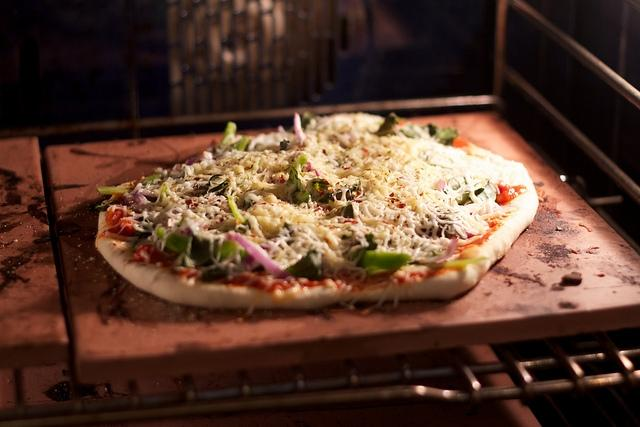bell pepper: (156, 226, 245, 267), (356, 250, 411, 276), (285, 250, 322, 281), (408, 257, 490, 268), (426, 123, 460, 146), (227, 195, 248, 226), (222, 122, 236, 146), (98, 186, 131, 195), (286, 166, 298, 185)
onion: (234, 233, 289, 280), (294, 113, 306, 146), (134, 190, 152, 207), (457, 234, 482, 246), (435, 179, 446, 192)
